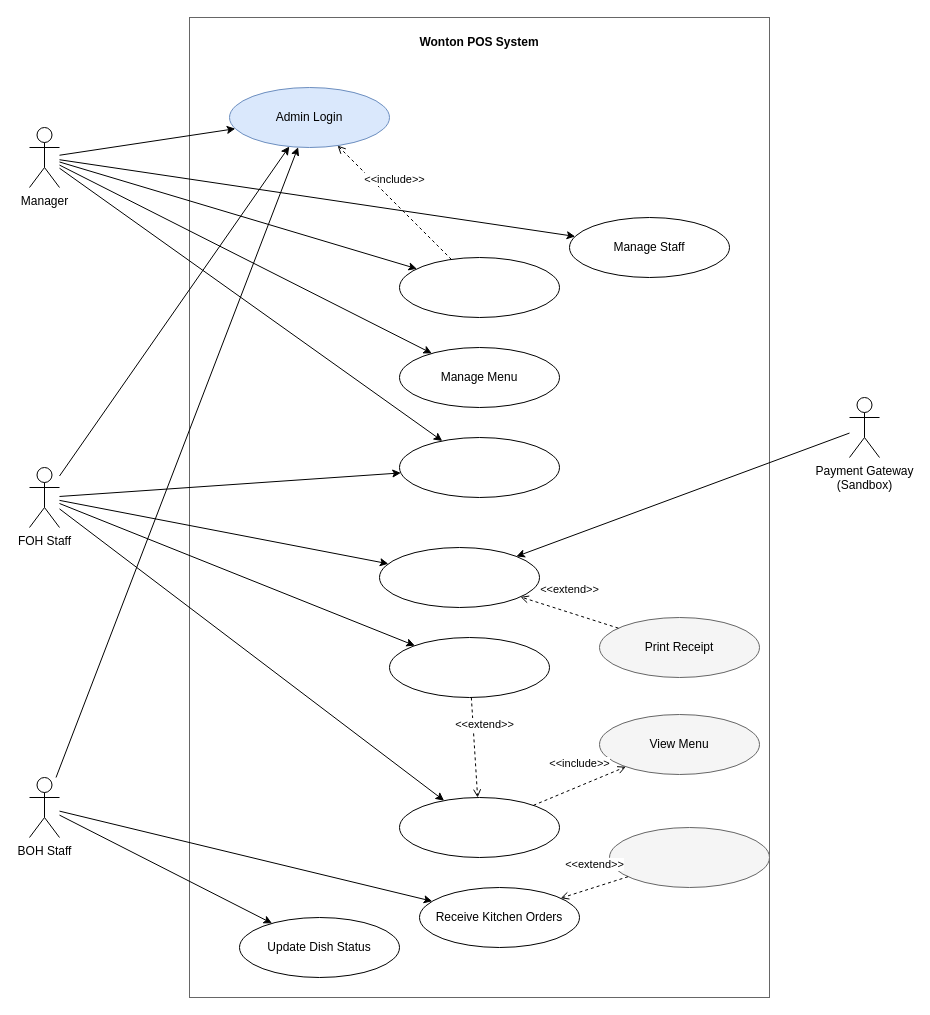
Image size: 930x1015. Some labels were removed from this diagram. The box of each missing label's shape, as (x1, y1, x2, y2) in pixels:
Assign Order to Table: (388, 636, 550, 698)
Create In-Store Order: (398, 796, 560, 858)
Manage Tables: (398, 436, 560, 498)
Process Payment: (378, 546, 540, 608)
Reject Order: (608, 826, 770, 888)
View Revenue Statistics: (398, 256, 560, 318)
